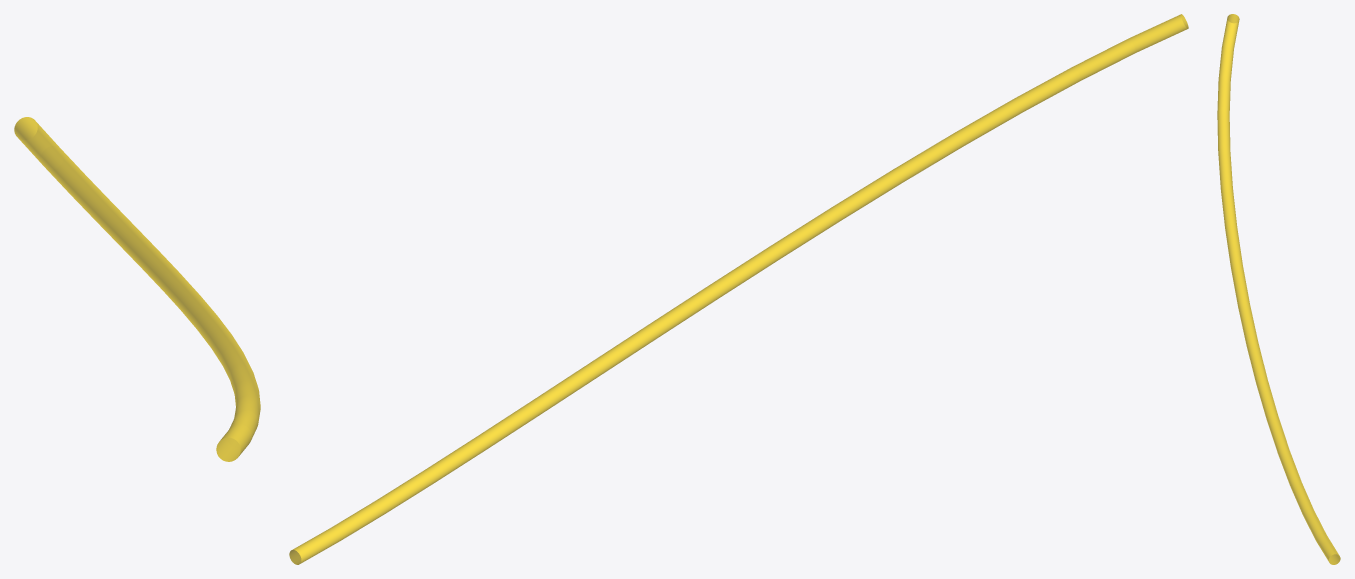
Rendered from Event_100608114_track_78.fbx.
The picture shows the model from 3 angles, left to right: view 1: azimuth 90°, elevation 25°; view 2: azimuth 210°, elevation 25°; view 3: azimuth 270°, elevation 25°; orthographic projection. The views are drawn at different scales.
Visible parts, largest first — view 1: Model; view 2: Model; view 3: Model.
Part boxes in pixels (x1=…): Model: x1=14, y1=117, x2=260, y2=461; Model: x1=289, y1=14, x2=1188, y2=564; Model: x1=1217, y1=14, x2=1340, y2=564.
Bounding box in the file's own units: 2.7 × 0.7193 × 0.3995.
